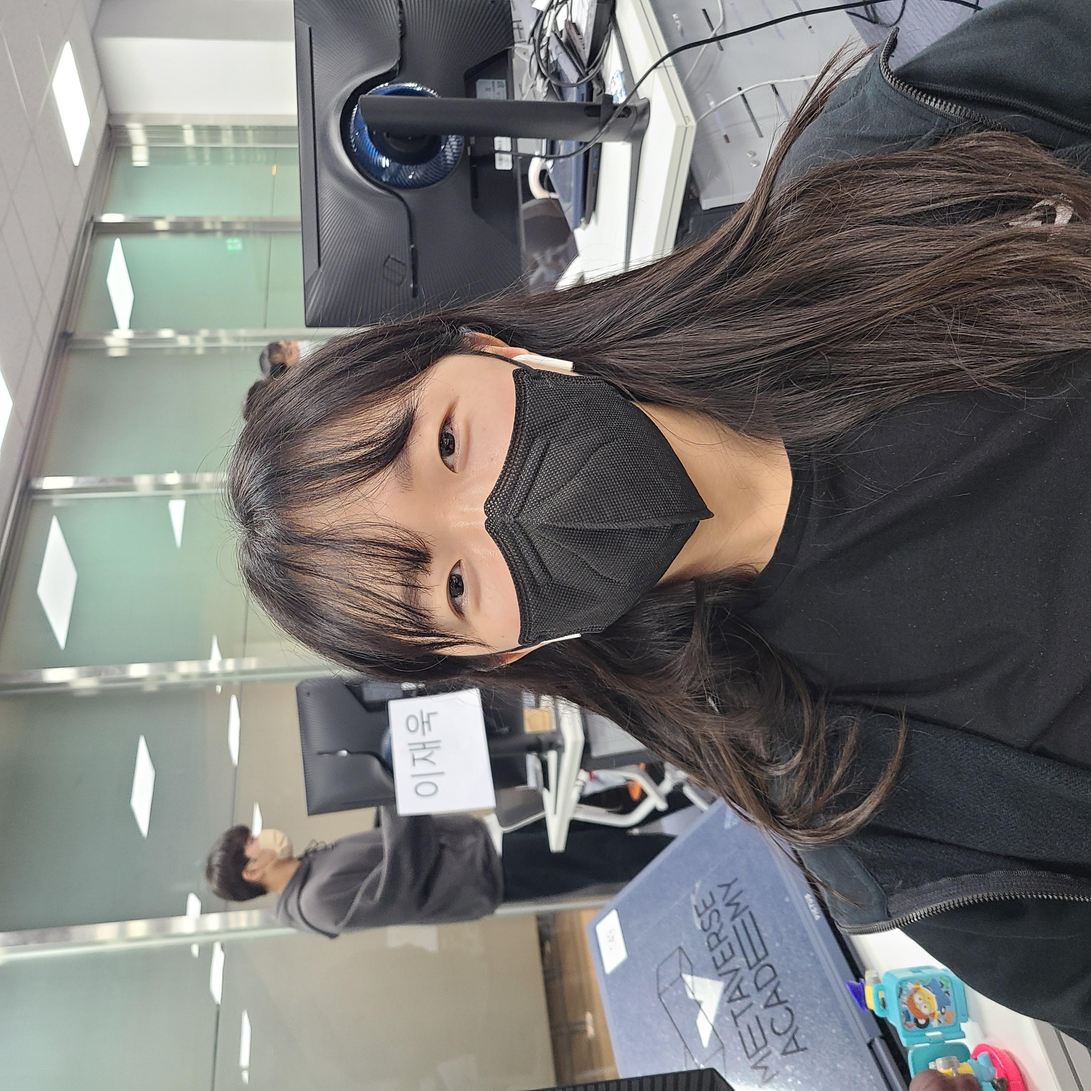earphone: (717, 507, 748, 590)
